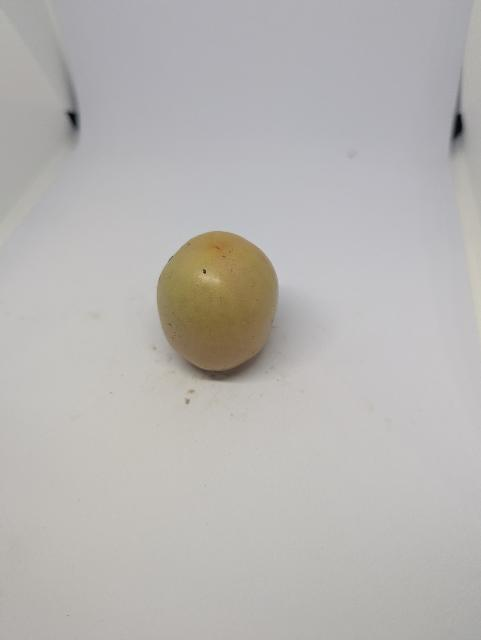breaker: (150, 222, 290, 386)
